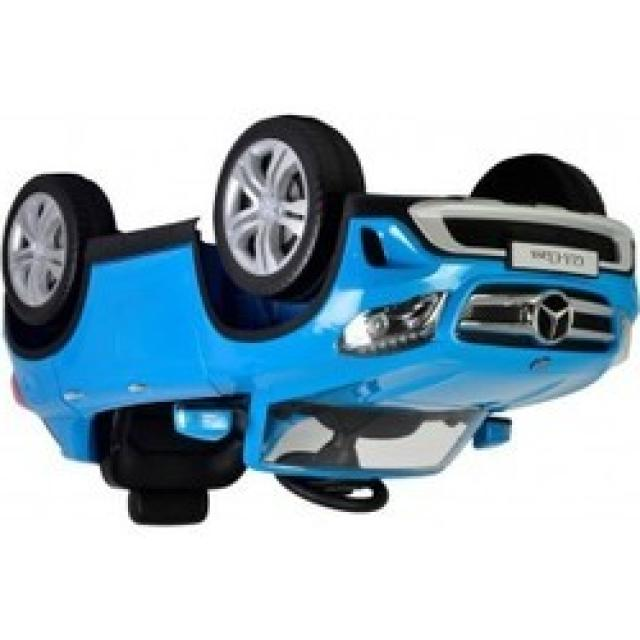Car: (3, 116, 640, 530)
